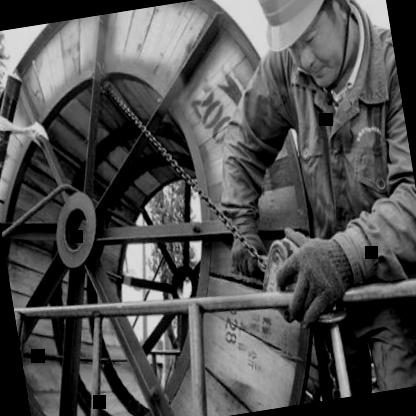helmet: (249, 0, 378, 100)
